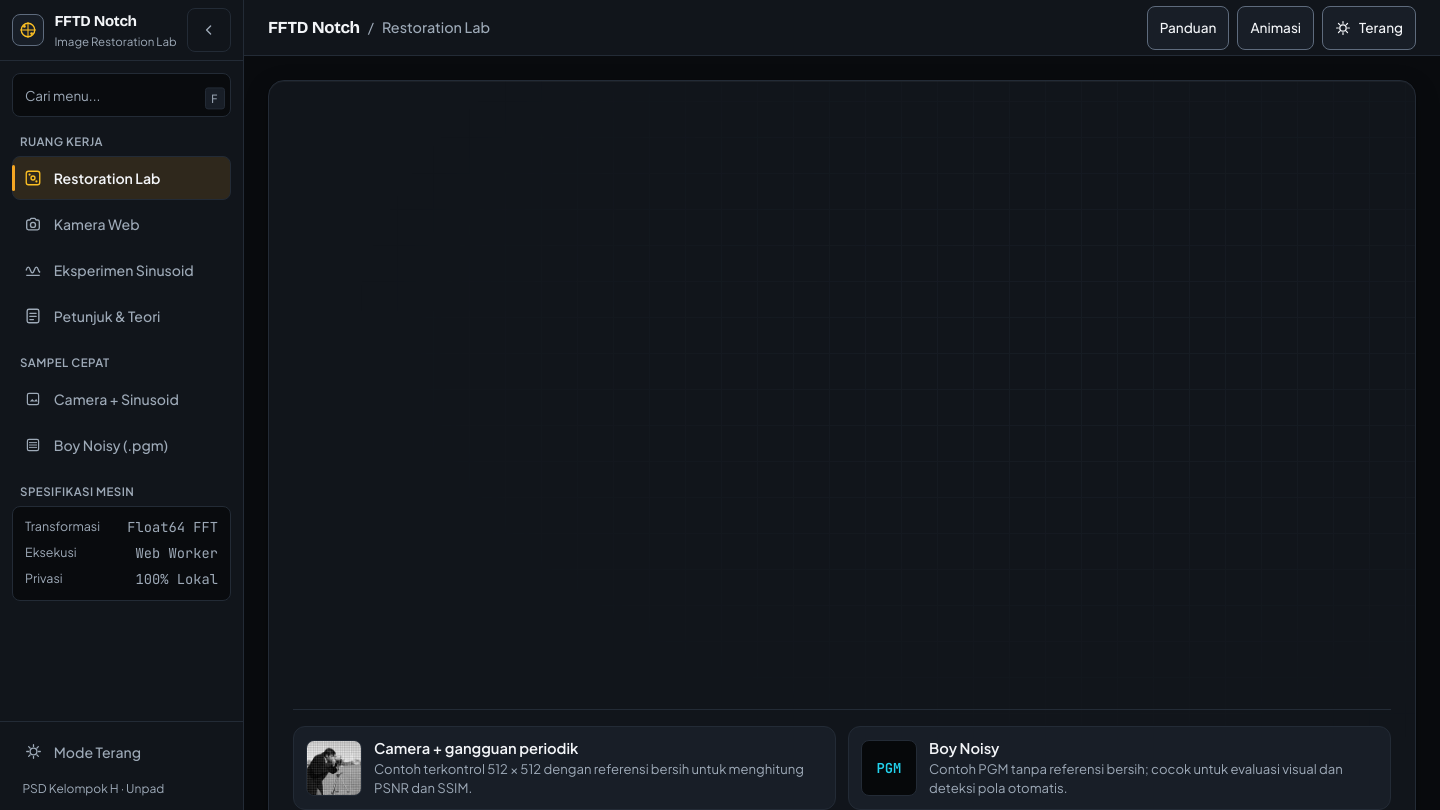
Test: Motion preferences and CameraTab lifecycle › toggles data-reduced-motion via header Animasi button
Click the button with aria-label "Animasi dikurangi": x=1276, y=28 [1237,6,1314,50]
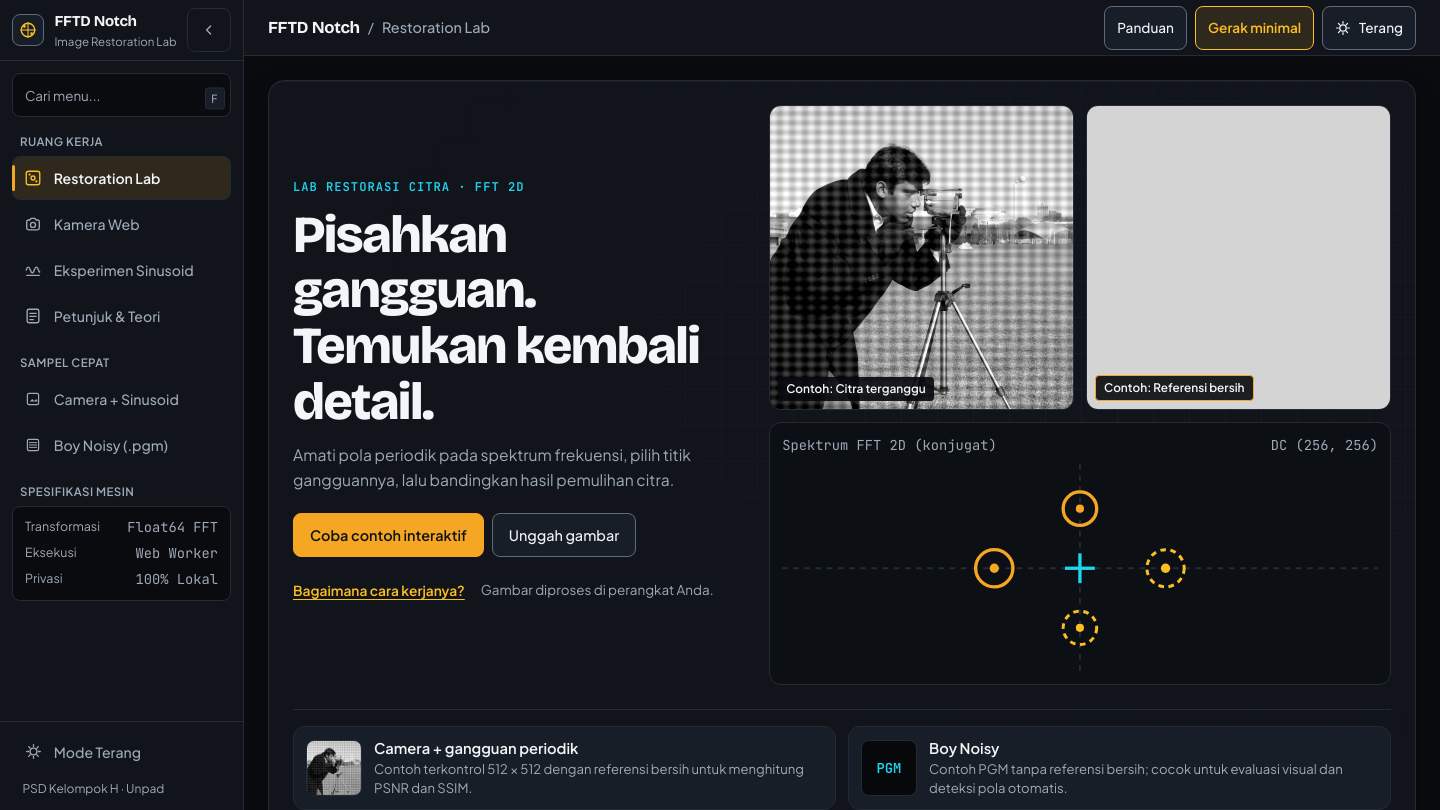
Now the button with aria-label "Animasi dikurangi" is pressed, box [1195,6,1314,50]
